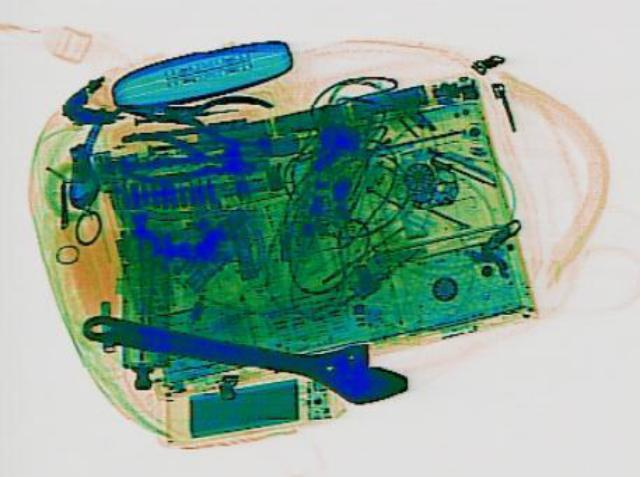Pliers: (109, 80, 274, 146), (109, 129, 255, 189)
Wrench: (70, 291, 418, 409)
